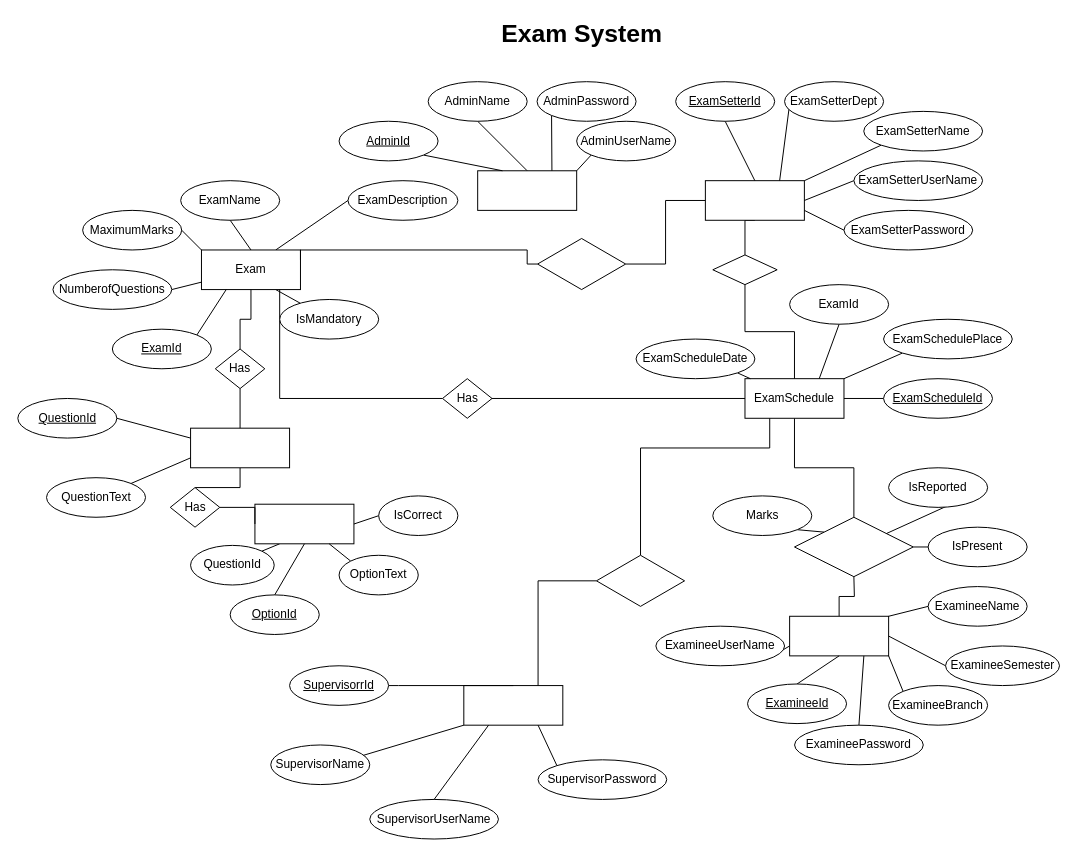
This 1077x856 diagram has some shape labels left out. Here are the shapes that lost their labels. From the top down, the centre of each, then its label:
point (527, 190): Admin
point (754, 200): Exam Setter
point (581, 264): Creates
point (744, 269): Sets
point (240, 447): Question
point (304, 523): Options
point (853, 546): Takes
point (640, 580): Supervises
point (839, 635): Examinee
point (513, 705): Supervisor
